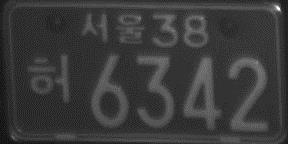2: (226, 57, 271, 133)
3: (132, 54, 174, 129), (149, 11, 179, 49)
4: (181, 56, 225, 133)
6: (89, 53, 131, 129)
8: (182, 12, 209, 50)
서울_O: (77, 9, 146, 47)
허: (26, 53, 72, 104)
